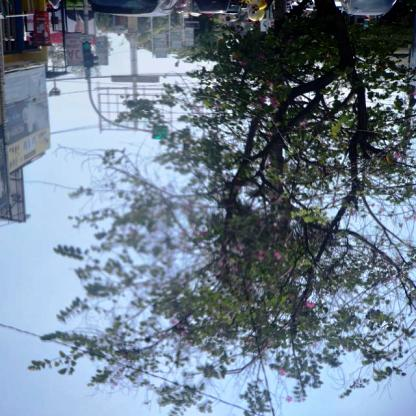Traffic Light -Green-: (83, 40, 94, 66)
